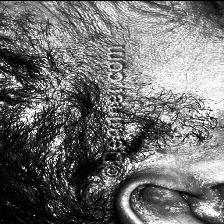Non-Cancerous Skin Condition: (3, 46, 85, 204)
